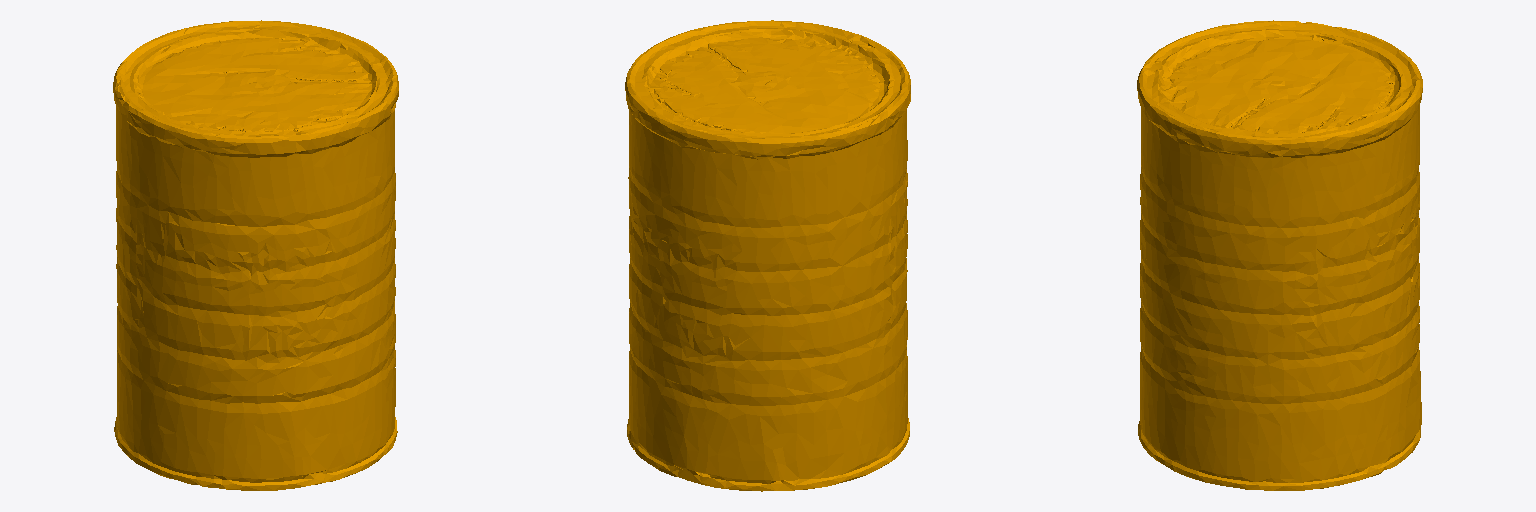
robot.urdf — 002_master_chef_can:
<?xml version="1.0" ?>
<robot name="002_master_chef_can">
  <link name="base_link">
    <inertial>
      <mass value="0.11415636362349622"/>
      <origin rpy="1.210e-03 -1.400e-03  3.062e+00" xyz="-0.0171  -0.0098   0.07006"/>
      <inertia ixx="0.00026022386072310257" ixy="-1.596905860005242e-20" ixz="-1.364622627579756e-20" iyy="0.00026007459655267136" iyz="-2.4255450622035555e-20" izz="0.0001481777086922891"/>
    </inertial>
    <collision name="002_master_chef_can__collision">
      <origin rpy="0 0 0" xyz="0 0 0"/>
      <geometry>
        <mesh filename="./002_master_chef_can_250_collision.stl" scale="1.0 1.0 1.0"/>
      </geometry>
    </collision>
    <visual name="002_master_chef_can__visual">
      <origin rpy="0 0 0" xyz="0 0 0"/>
      <geometry>
        <mesh filename="./textured.obj" scale="1.0 1.0 1.0"/>
      </geometry>
    </visual>
  </link>
</robot>

--- Facts derived from the render (not from the file) ---
The picture shows the robot from 3 angles, left to right: view 1: azimuth 30°, elevation 25°; view 2: azimuth 150°, elevation 25°; view 3: azimuth 270°, elevation 25°; orthographic projection.
Robot: 002_master_chef_can — 1 links, 0 joints (none); root link base_link; default pose: all joints at 0.
Links seen in each view (by area): view 1: base_link; view 2: base_link; view 3: base_link.
Link boxes in pixels (x1,y1,x2,y2): base_link: (113,20,398,490); base_link: (625,20,910,491); base_link: (1137,20,1422,490).
Size in the robot's own frame: 0.1025 by 0.1024 by 0.1402 metres.
1 mesh visuals loaded from 1 distinct referenced files (1 OBJ).